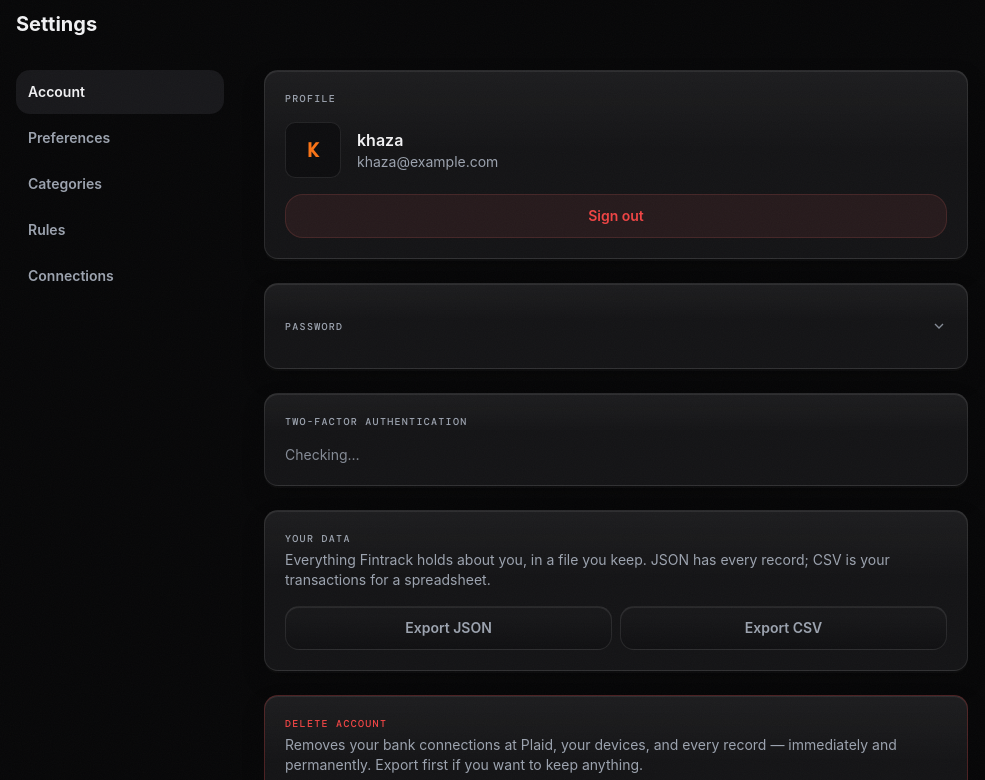
Settings password section › is collapsed until opened, and is a real disclosure
Check: the field labelled "Current password" is not shown
Click the button "Password".
click(314, 326)  # box top-left (285, 304), bottom-right (947, 348)
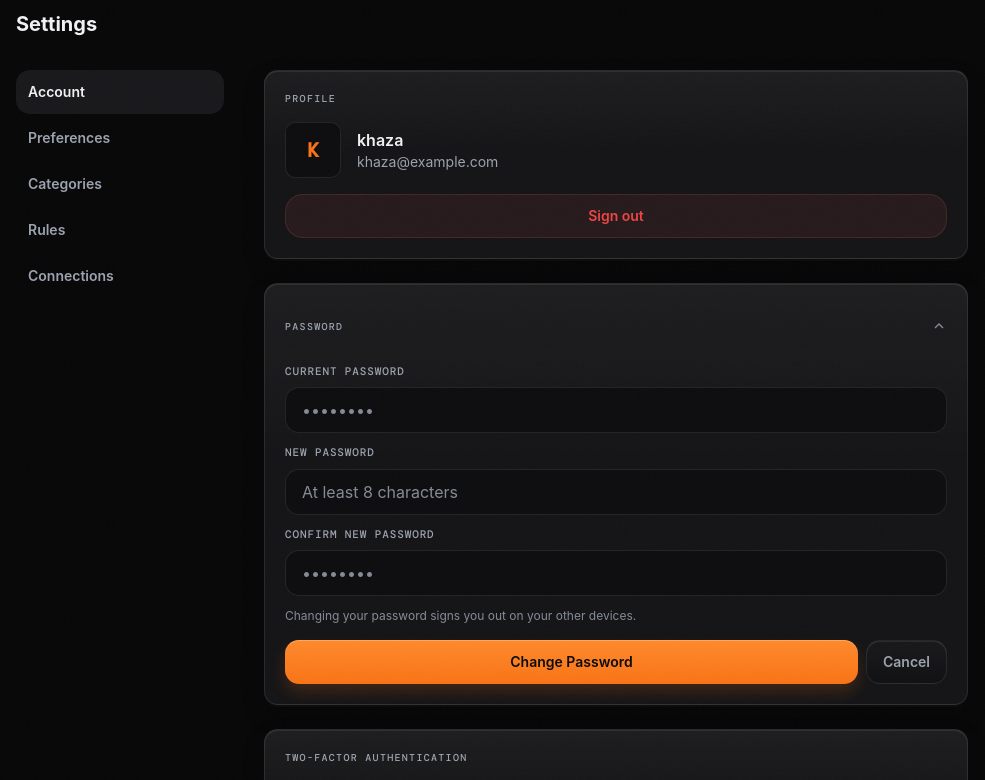
Check: the password field labelled "Current password" is shown, box top-left (285, 387), bottom-right (947, 433)
Check: the password field labelled "New password" is shown, box top-left (285, 469), bottom-right (947, 515)
